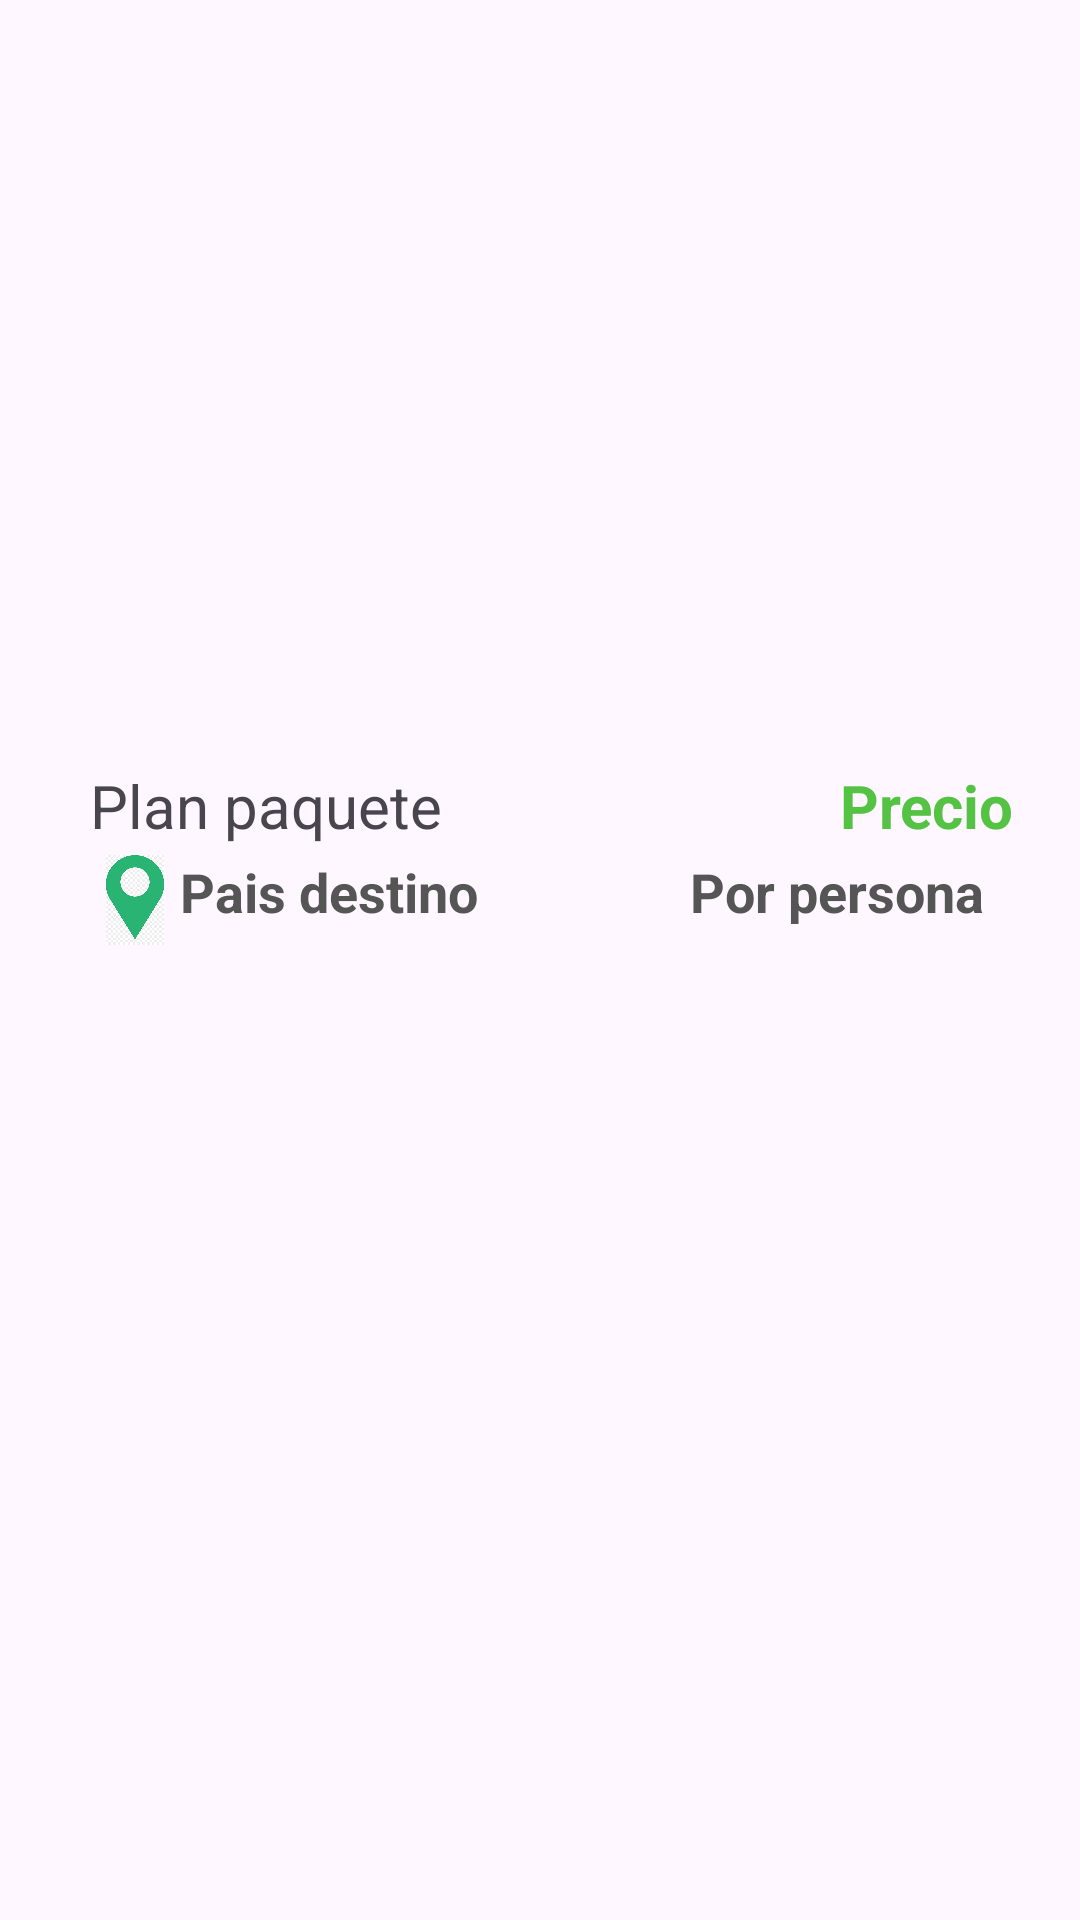

Screen size 1080×1920. Icon name, then its center in pixels as point (x, y):
pin verde: point (135, 897)
